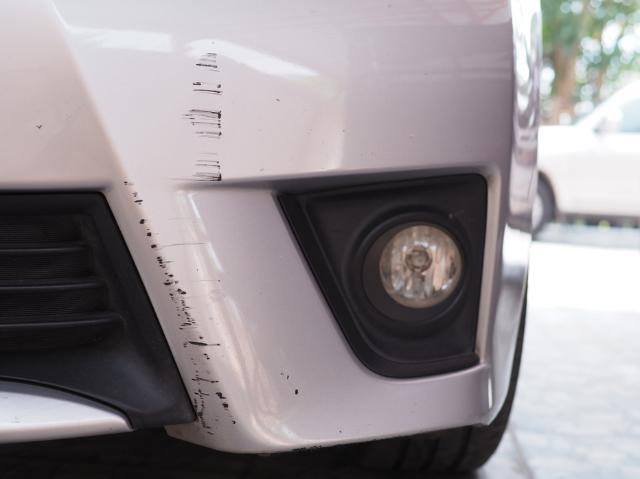Bumper: (78, 24, 350, 432)
